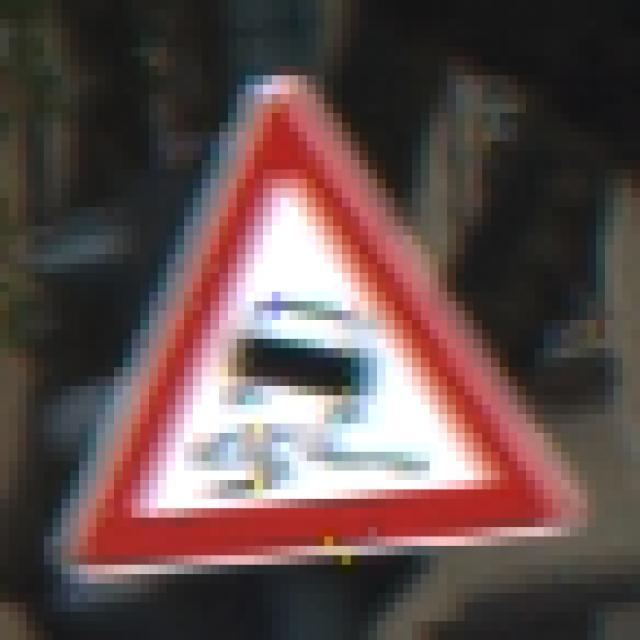slippery road: (44, 70, 586, 582)
